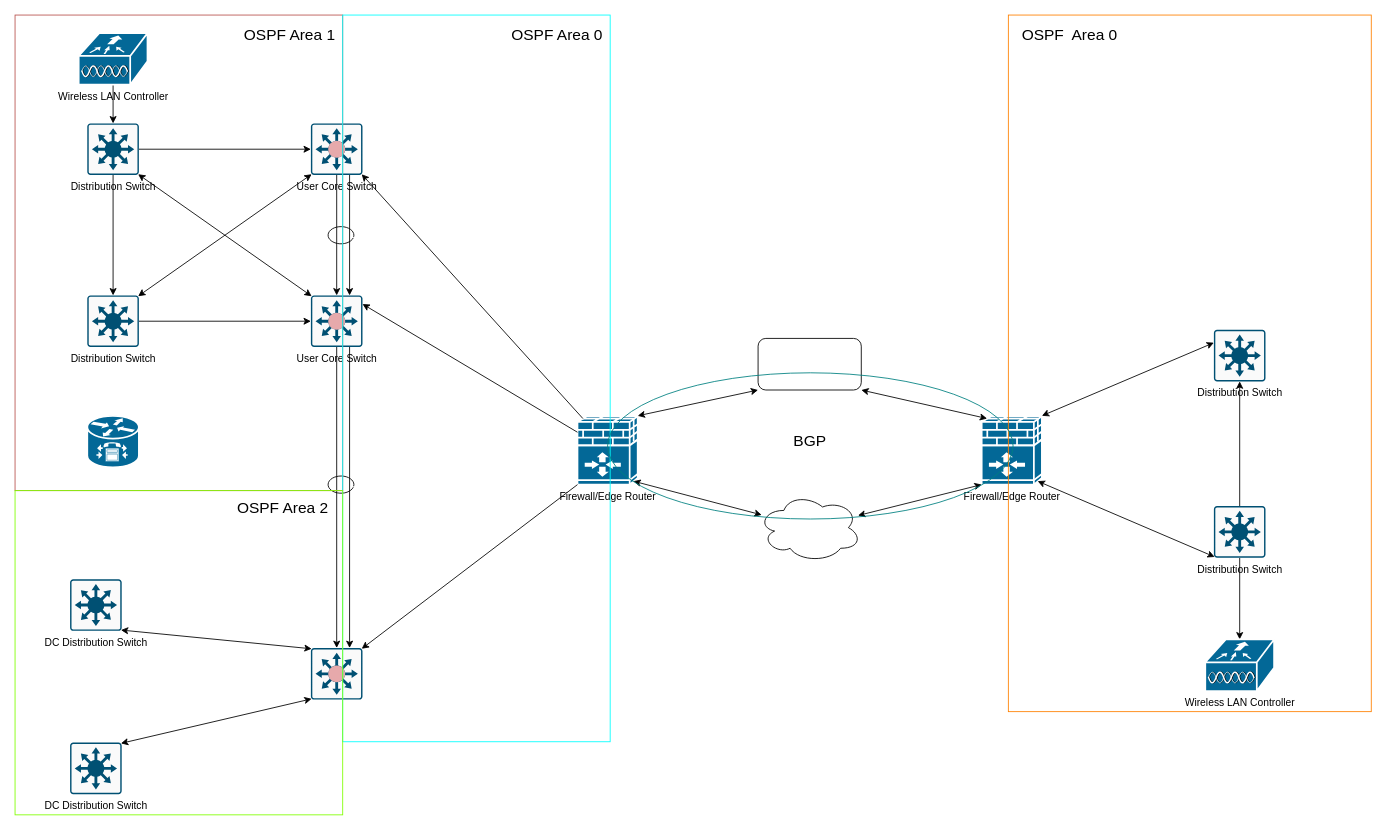
The diagram is 1386 pixels wide and 830 high, and some of its shapes have lost their labels. Here are the shapes that lost their labels. From the top down, the centre of each, then its label:
[809,364]: Service Provider
[112,441]: VoIP Gateway
[809,527]: Internet
[336,673]: Data Center Core Switch
